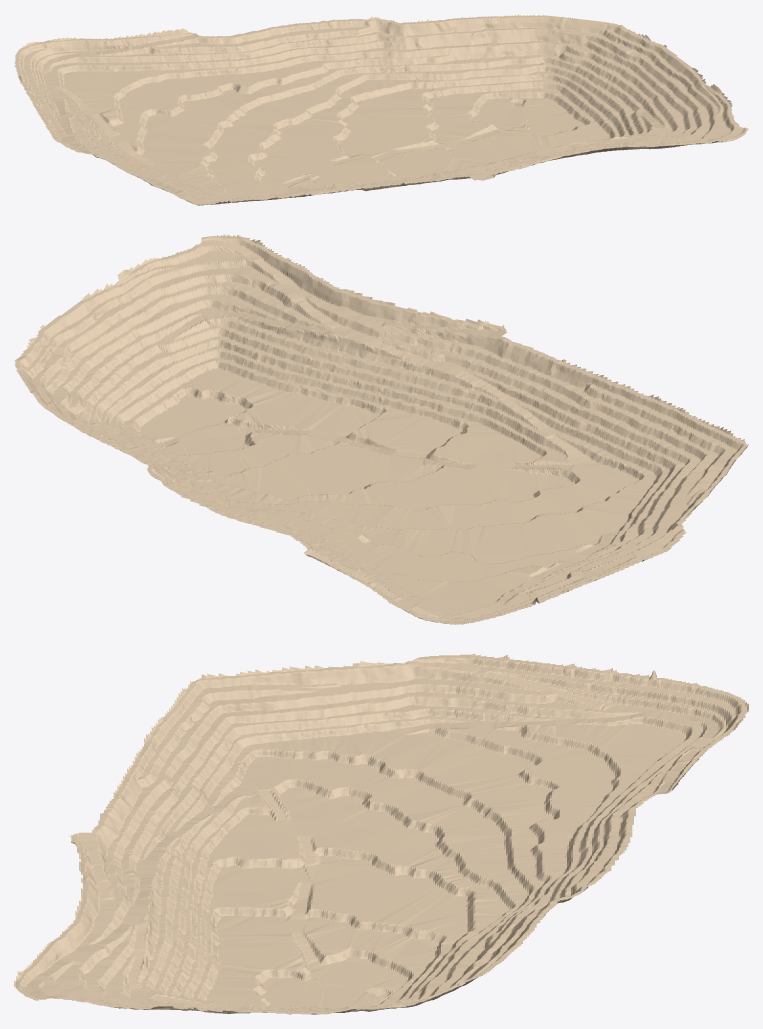
File: pit_01.glb
The picture shows the model from 3 angles, top to bottom: view 1: azimuth 30°, elevation 25°; view 2: azimuth 150°, elevation 25°; view 3: azimuth 270°, elevation 25°; orthographic projection. The views are drawn at different scales.
Bounding box in the file's own units: 2230 × 192 × 1920.
